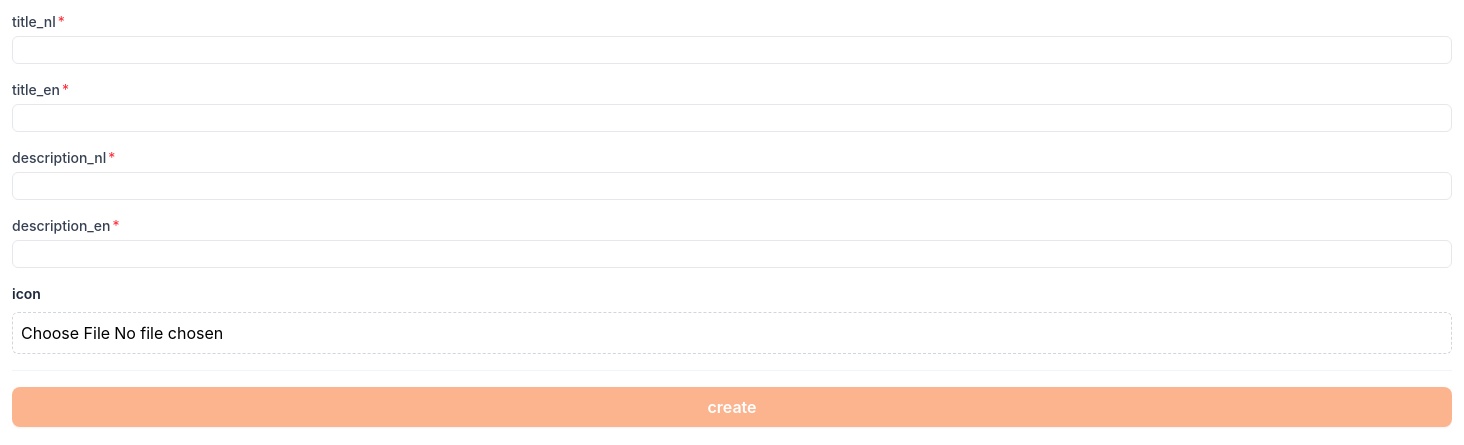
Scenario: EditRegisterReasonOverlay › updates form state as the user types and enables the create button once all required fields are filled
Type "Titel" into the field labelled "title_nl". click: (732, 50)
box: [12,36,1452,64]
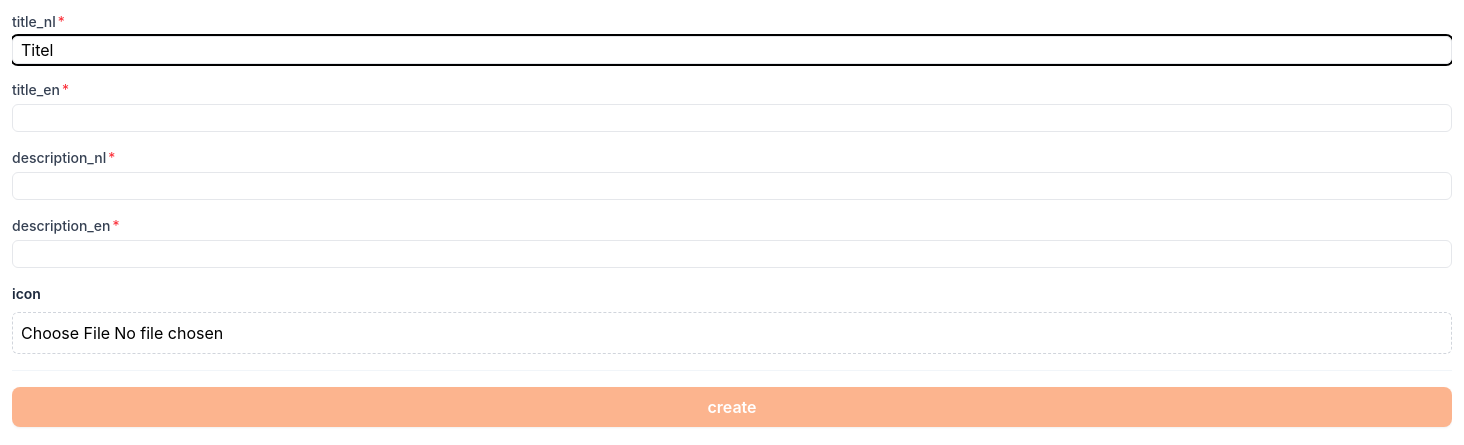
Type "Title" into the field labelled "title_en". click: (732, 118)
box: [12,104,1452,132]
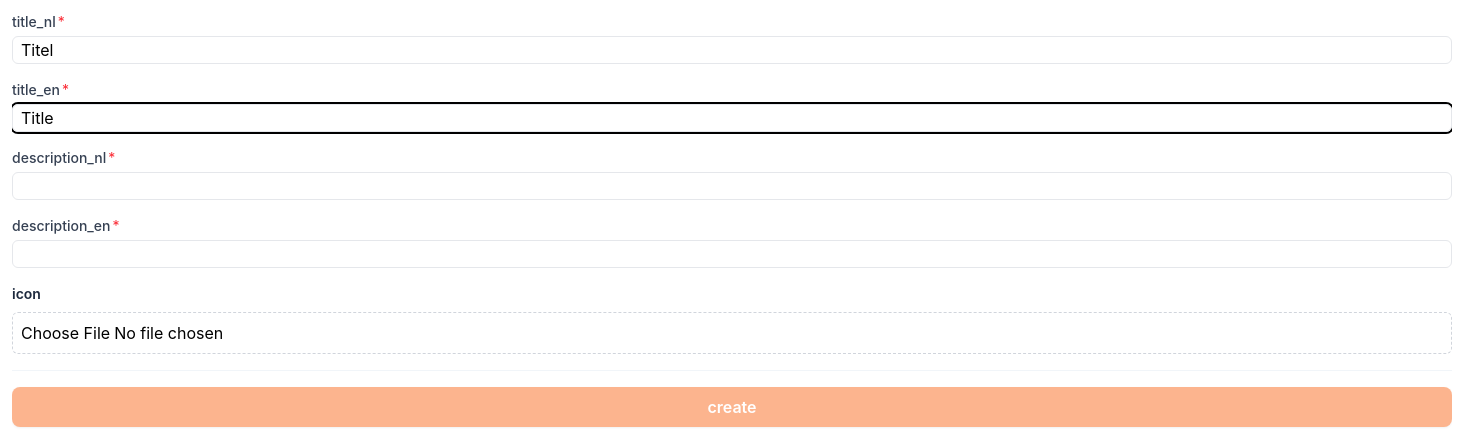
Type "Omschrijving" into the field labelled "description_nl". click: (732, 186)
box: [12,172,1452,200]
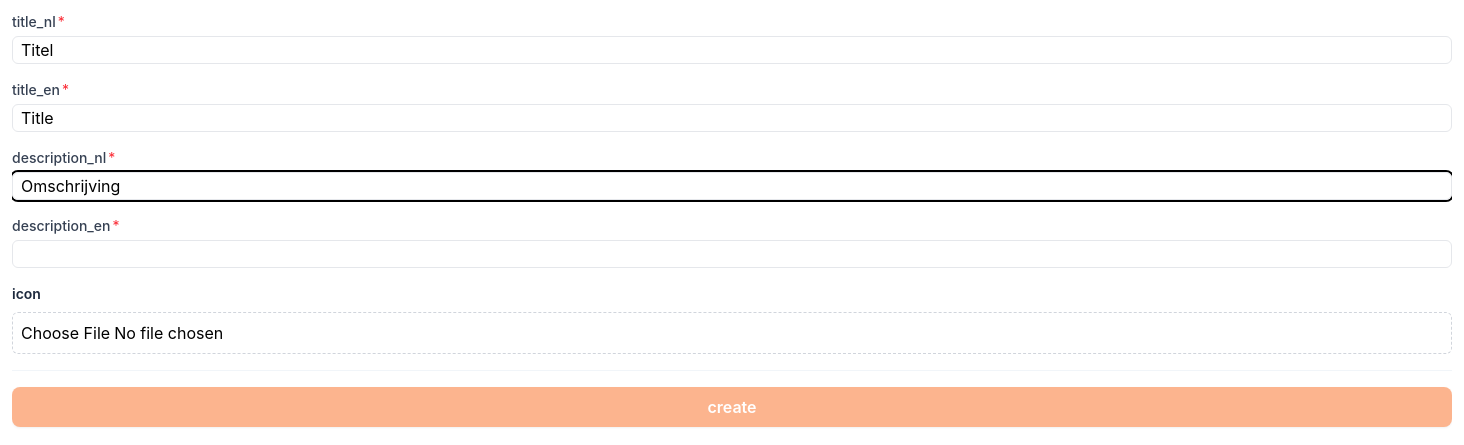
Type "Description" into the field labelled "description_en". click: (732, 254)
box: [12,240,1452,268]
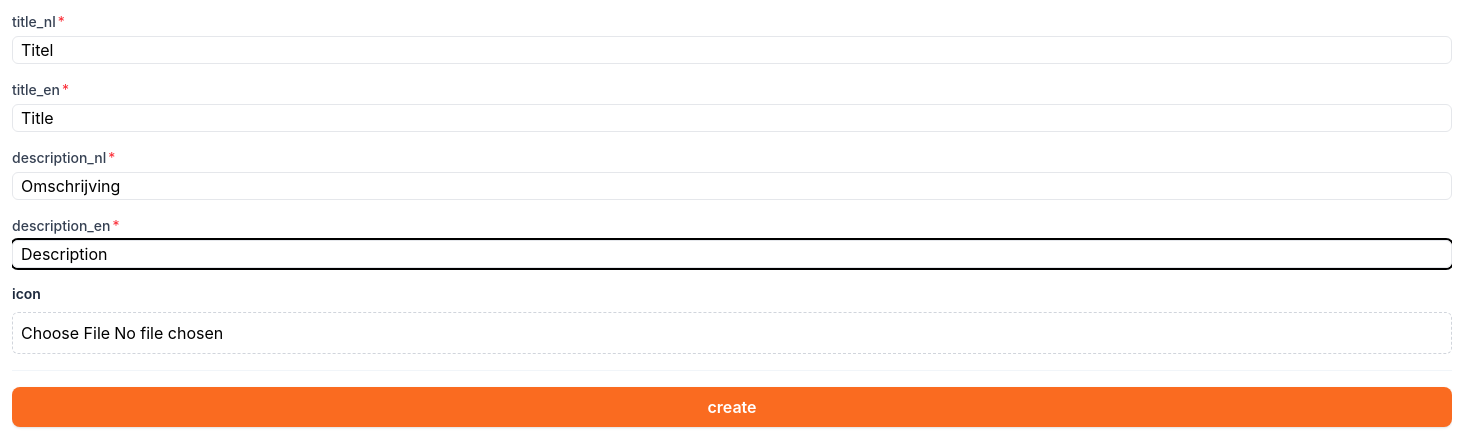
Result: the button "create" is enabled at [12,387,1452,427]
